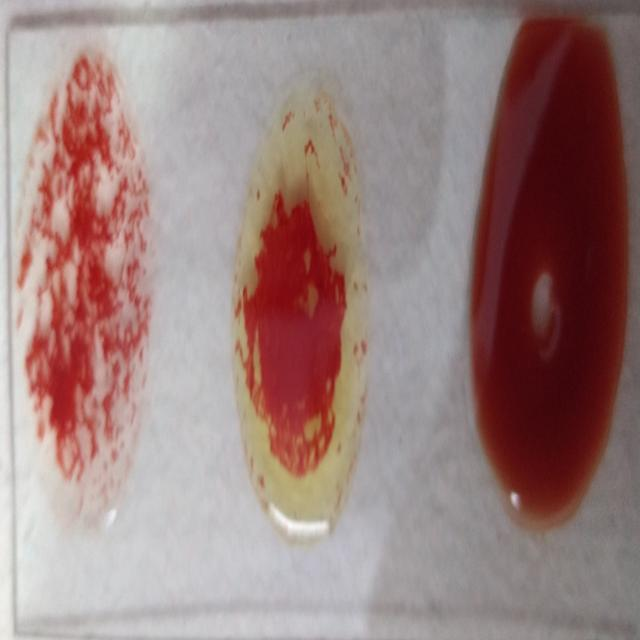B: (236, 72, 370, 544)
D: (14, 44, 157, 514)
